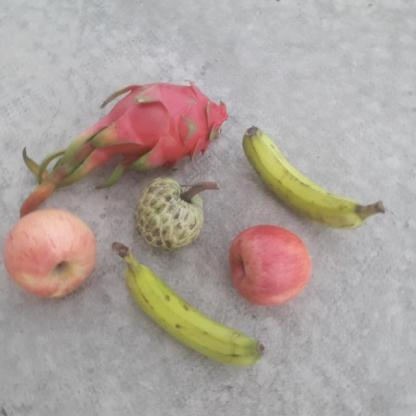annona: (130, 175, 214, 253)
apple: (2, 208, 101, 300), (225, 225, 313, 309)
banana: (110, 242, 276, 367), (242, 124, 388, 230)
pitaya: (87, 80, 234, 178)
